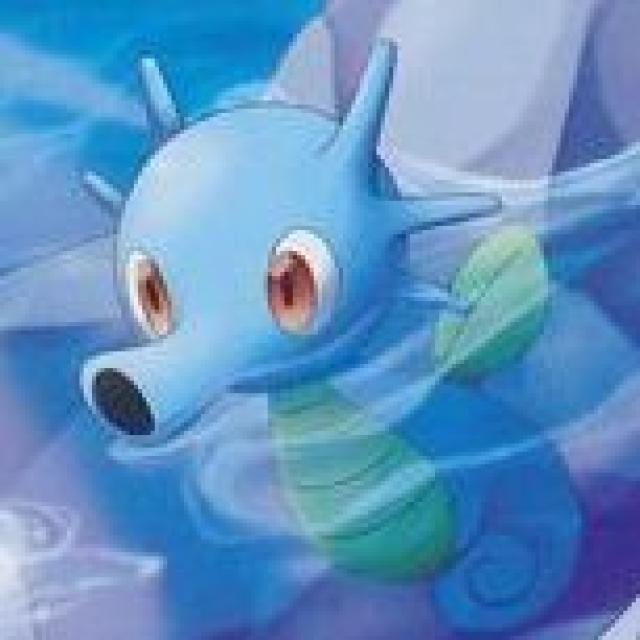Horsea: (59, 44, 558, 589)
